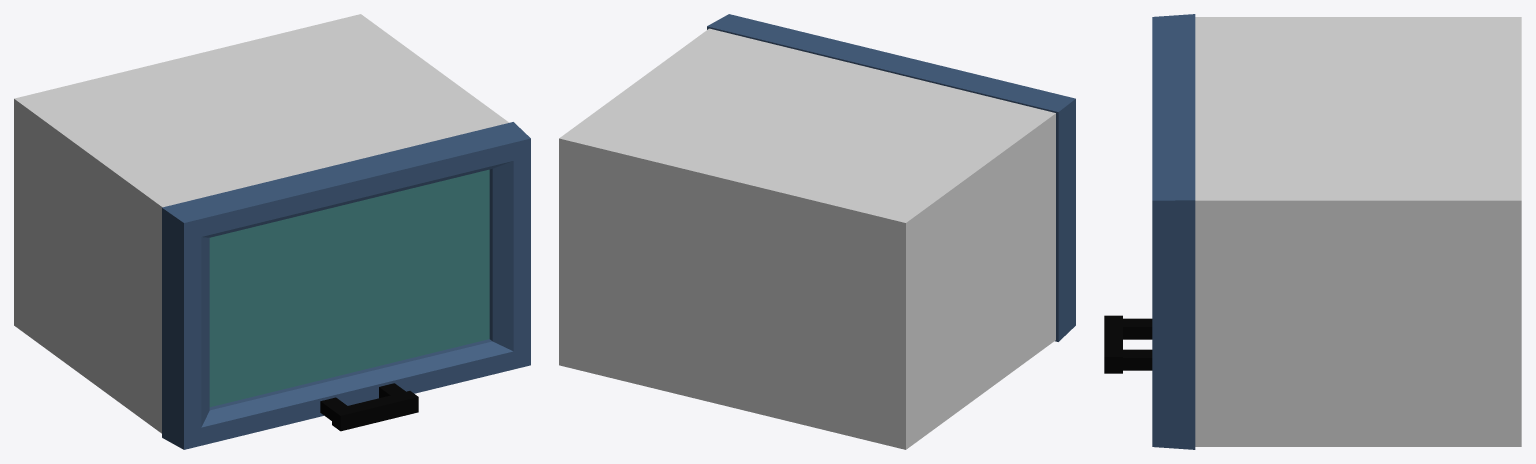
Rendered from Case2.fbx.
3 renders of one model, left to right at view 1: azimuth 30°, elevation 25°; view 2: azimuth 150°, elevation 25°; view 3: azimuth 270°, elevation 25°, orthographic. The views are drawn at different scales.
Visible parts, largest first — view 1: pCube377; view 2: pCube377; view 3: pCube377.
Part boxes in pixels (x1=…): pCube377: x1=14, y1=14, x2=530, y2=449; pCube377: x1=559, y1=14, x2=1075, y2=449; pCube377: x1=1104, y1=14, x2=1521, y2=449.
Size of the model in its own units: 81.1 by 76.76 by 50.69.
